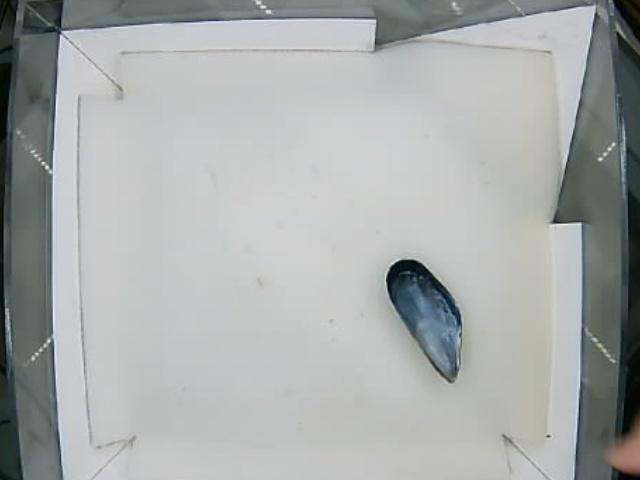Shell: (384, 254, 465, 382)
